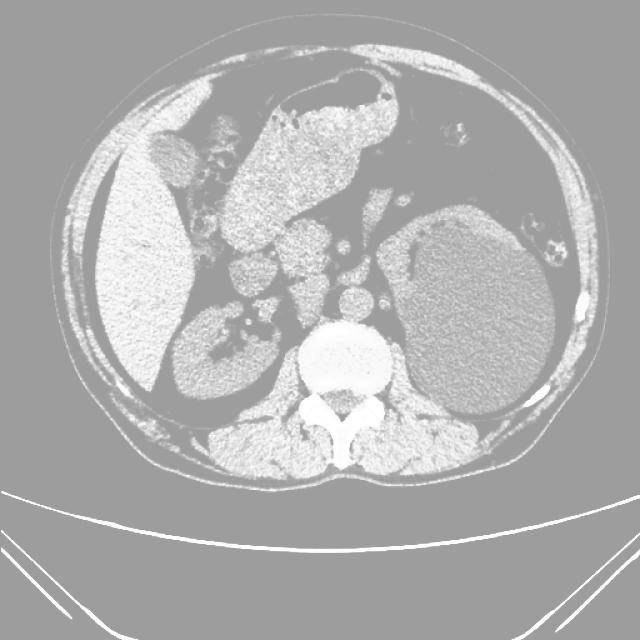cysts: (55, 36, 601, 489)
